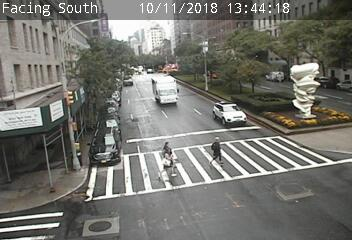car: (90, 128, 121, 163), (213, 102, 246, 126), (152, 75, 178, 105)
